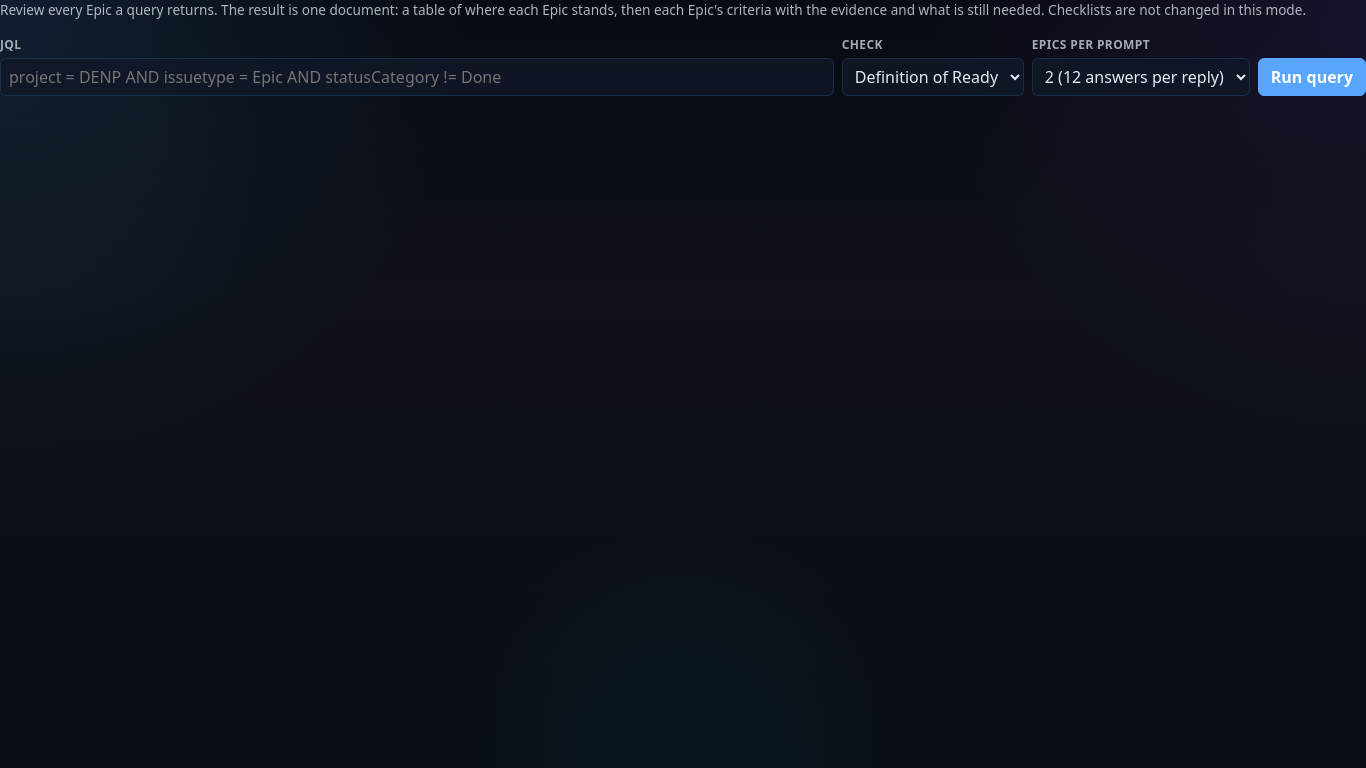
Test: BatchReadinessPanel › runs the query and reports how many Epics it will review
Type "project = DENP AND issuetype = Epic" into the field named "JQL query" at (417, 77), box [0,58,834,96]
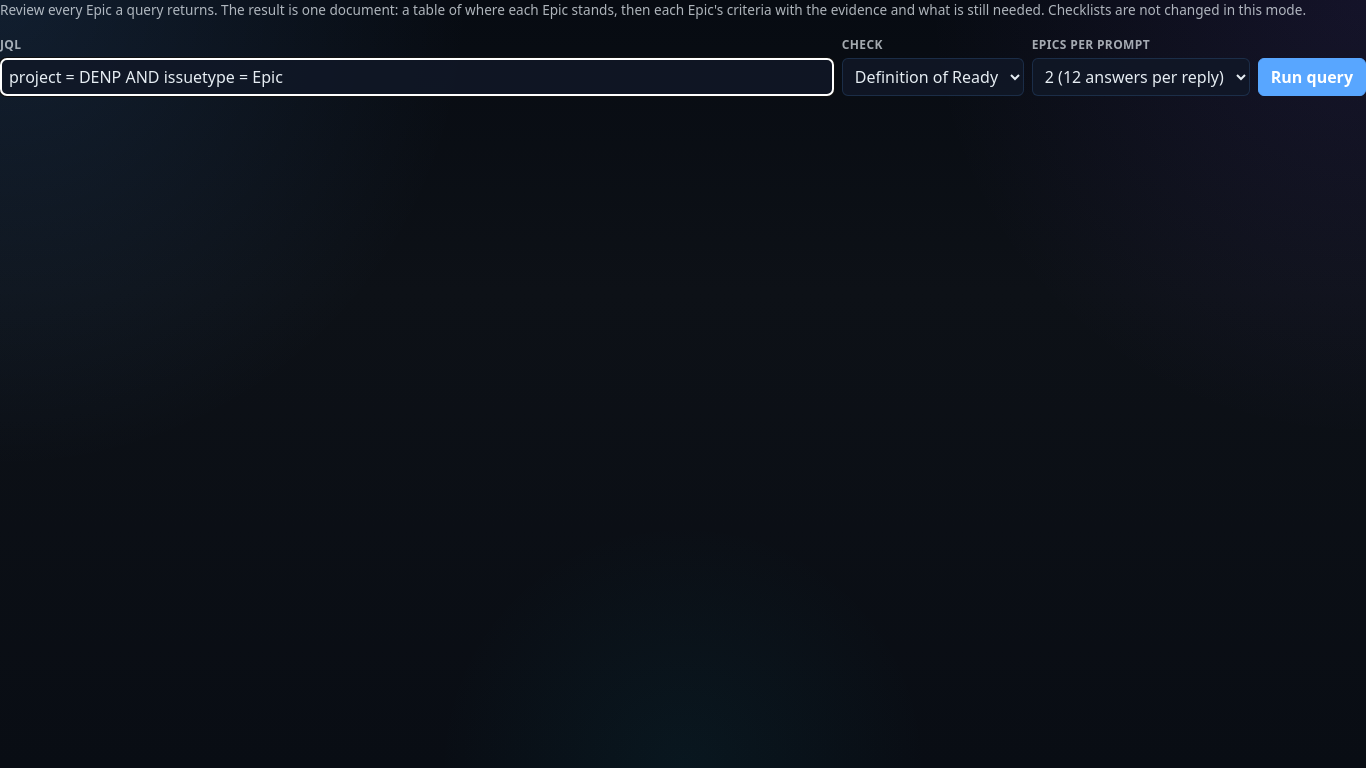
Click the button "Run query" at (1312, 77), box [1258,58,1365,96]
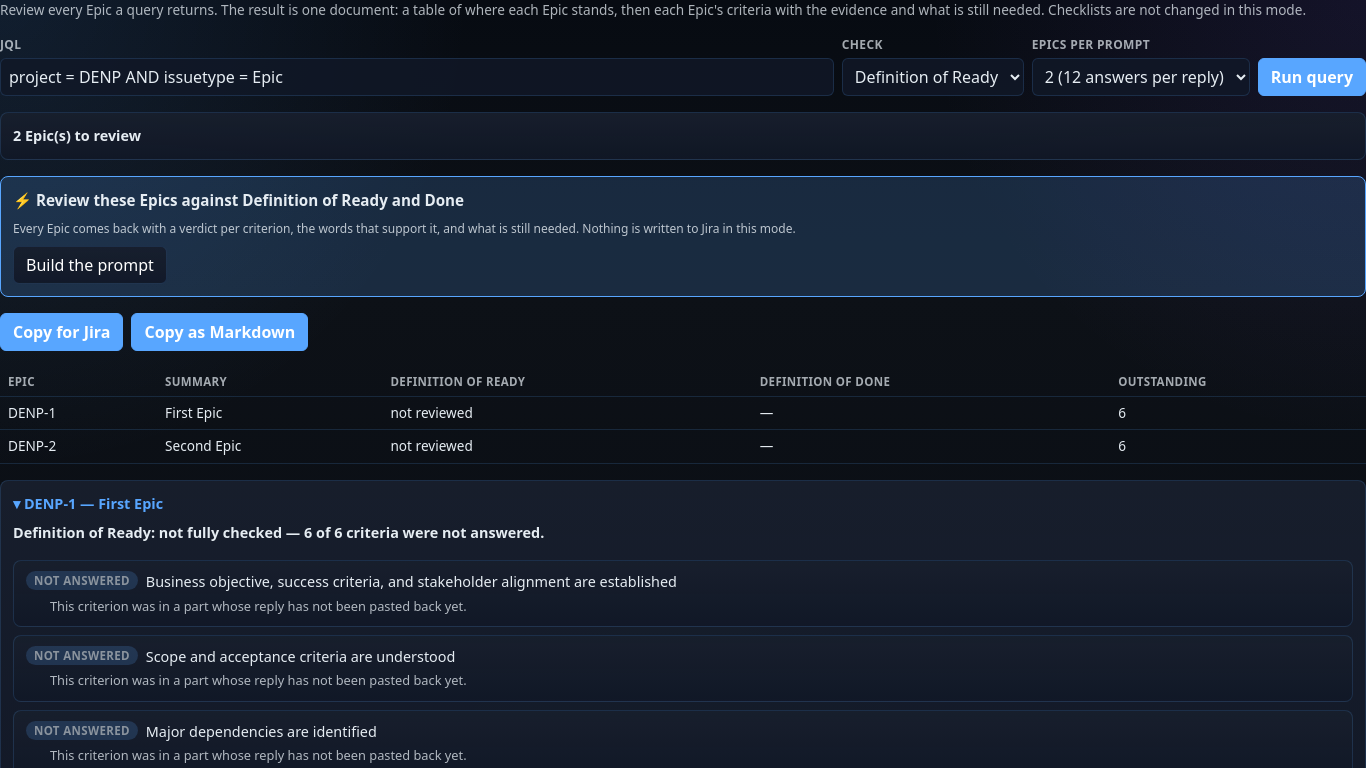
expect the text "2 Epic(s) to review" is shown: met, box [13,125,141,147]
expect the button "Build the prompt" is shown: met, box [13,246,167,284]
